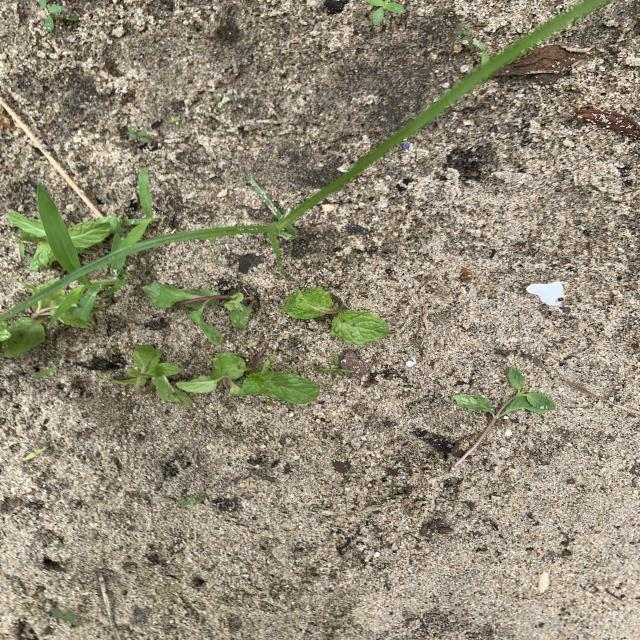crop: (451, 367, 556, 466), (141, 283, 253, 345), (185, 353, 319, 404), (283, 287, 389, 345), (111, 345, 193, 407), (0, 289, 66, 358), (7, 211, 56, 271), (68, 216, 117, 253), (59, 307, 94, 329)
weed: (246, 0, 601, 267), (0, 227, 248, 321), (110, 168, 160, 277), (37, 184, 81, 273), (363, 0, 406, 26), (466, 39, 490, 65)
